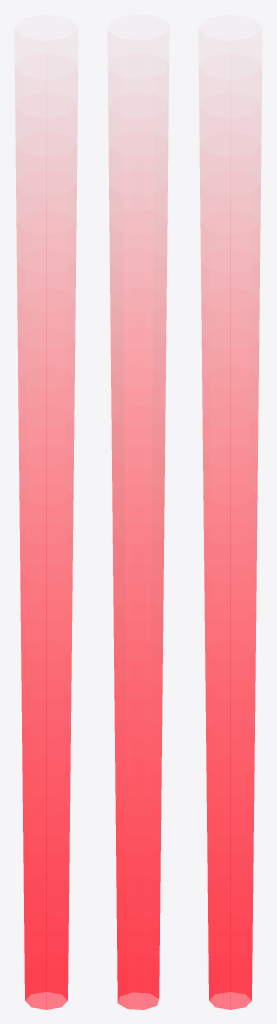
The model's file is FrsSaeule_Signalrot.gltf.
The picture shows the model from 3 angles, left to right: view 1: azimuth 90°, elevation 25°; view 2: azimuth 150°, elevation 25°; view 3: azimuth 270°, elevation 25°; orthographic projection.
Parts seen in each view (by area): view 1: frs_saeule_signalrot; view 2: frs_saeule_signalrot; view 3: frs_saeule_signalrot.
Boxes of the visible parts, <box> form: frs_saeule_signalrot: <box>16,93,76,1009</box>; frs_saeule_signalrot: <box>109,131,167,1009</box>; frs_saeule_signalrot: <box>200,93,260,1009</box>.
Size of the model in its own units: 6 by 100 by 6.
